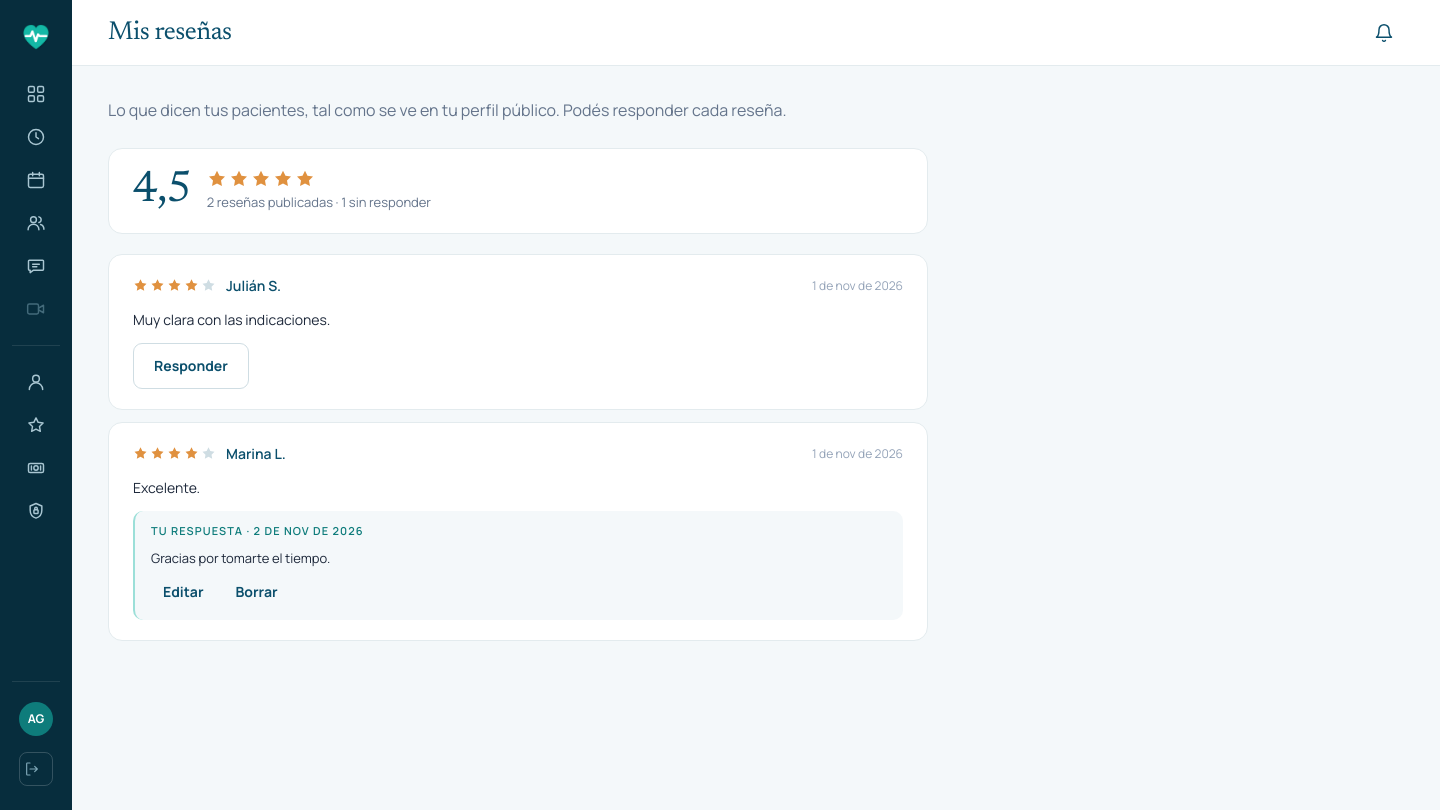
Test: Mis reseñas (ENG-106) › si el filtro de lenguaje la rechaza, muestra el motivo y no pierde lo escrito (ENG-107)
Click the button "Responder" at (191, 366), box [133, 343, 249, 389]
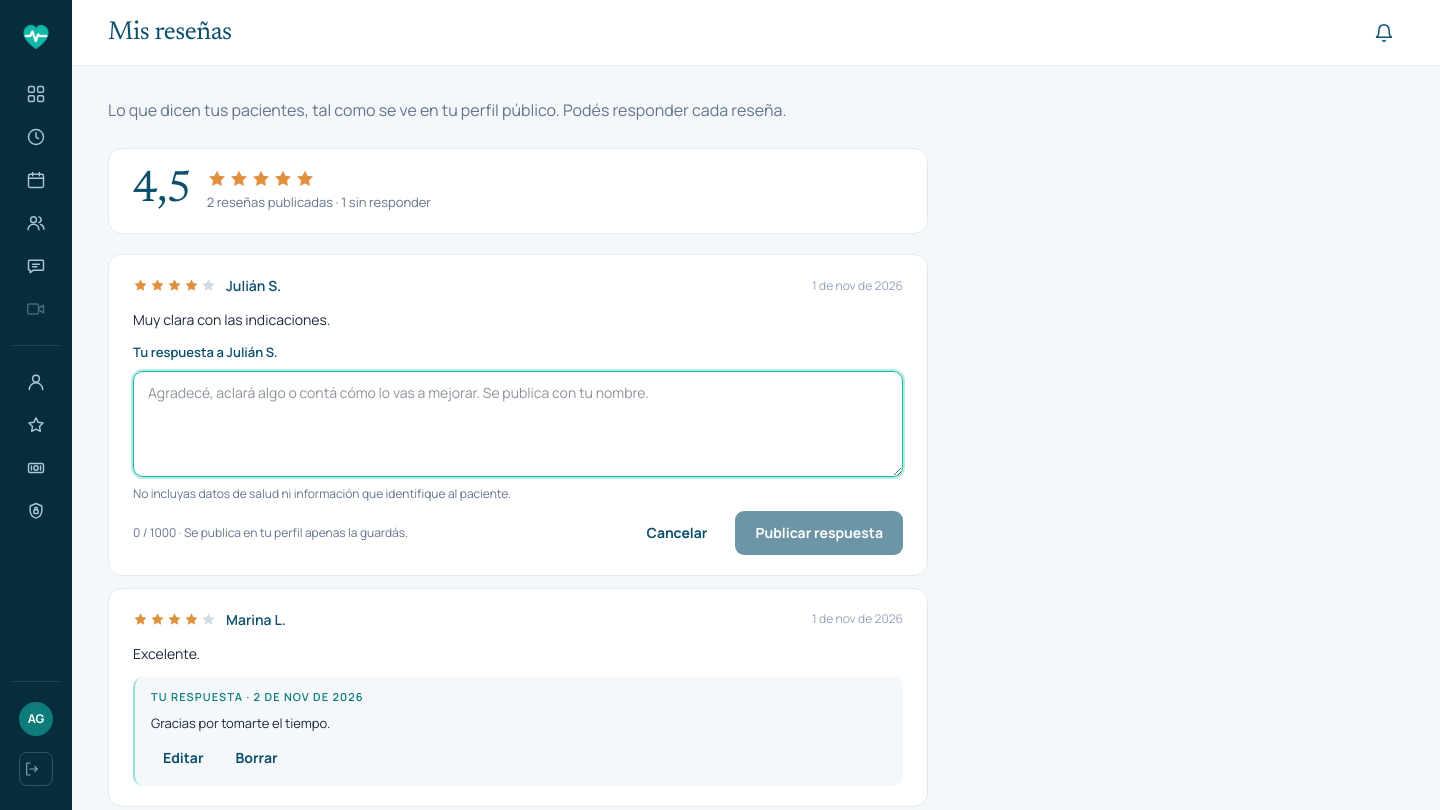
Type "Una respuesta" into the text box labelled "Tu respuesta a Julián S." at (518, 424), box [133, 371, 903, 477]
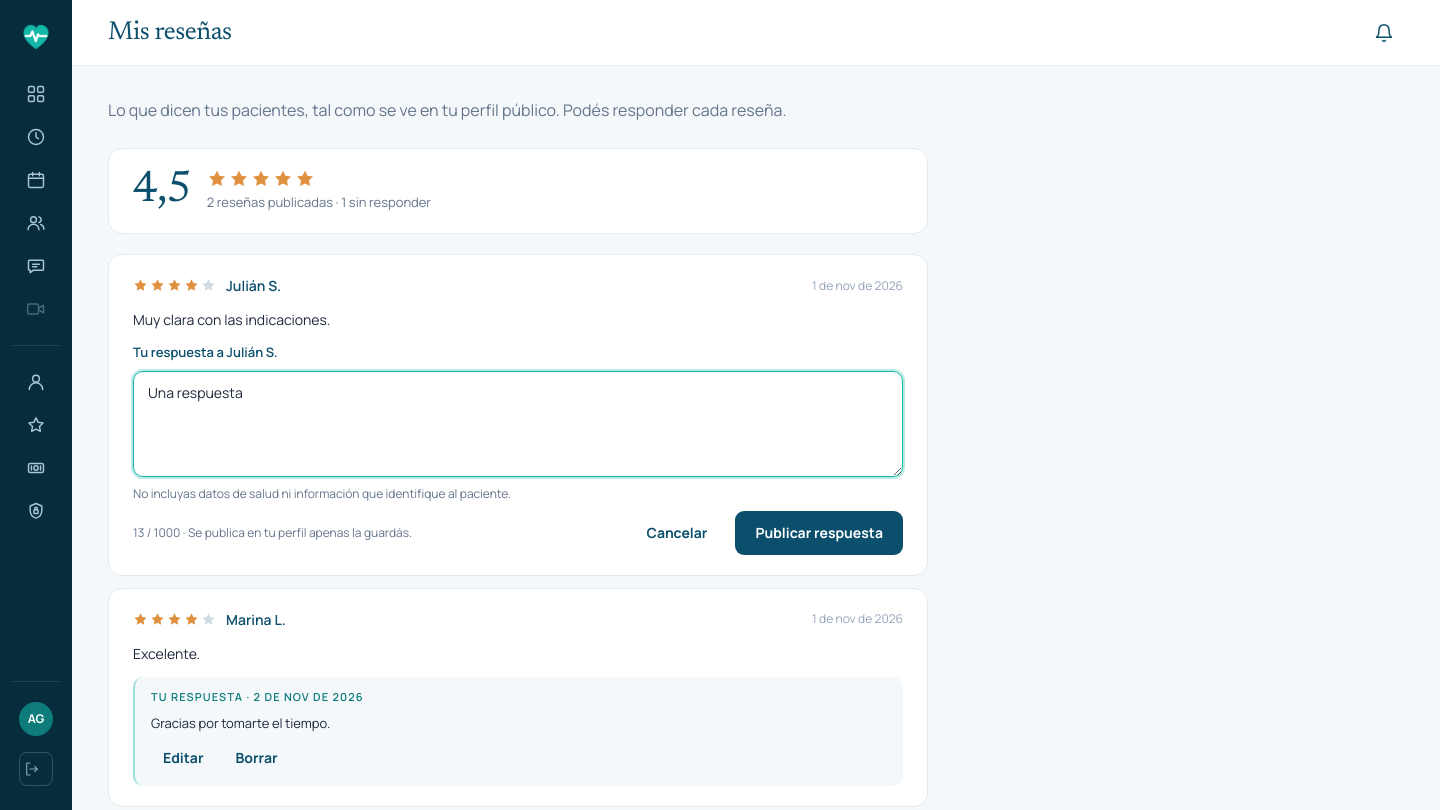
Click the button "Publicar respuesta" at (819, 533), box [736, 511, 903, 555]
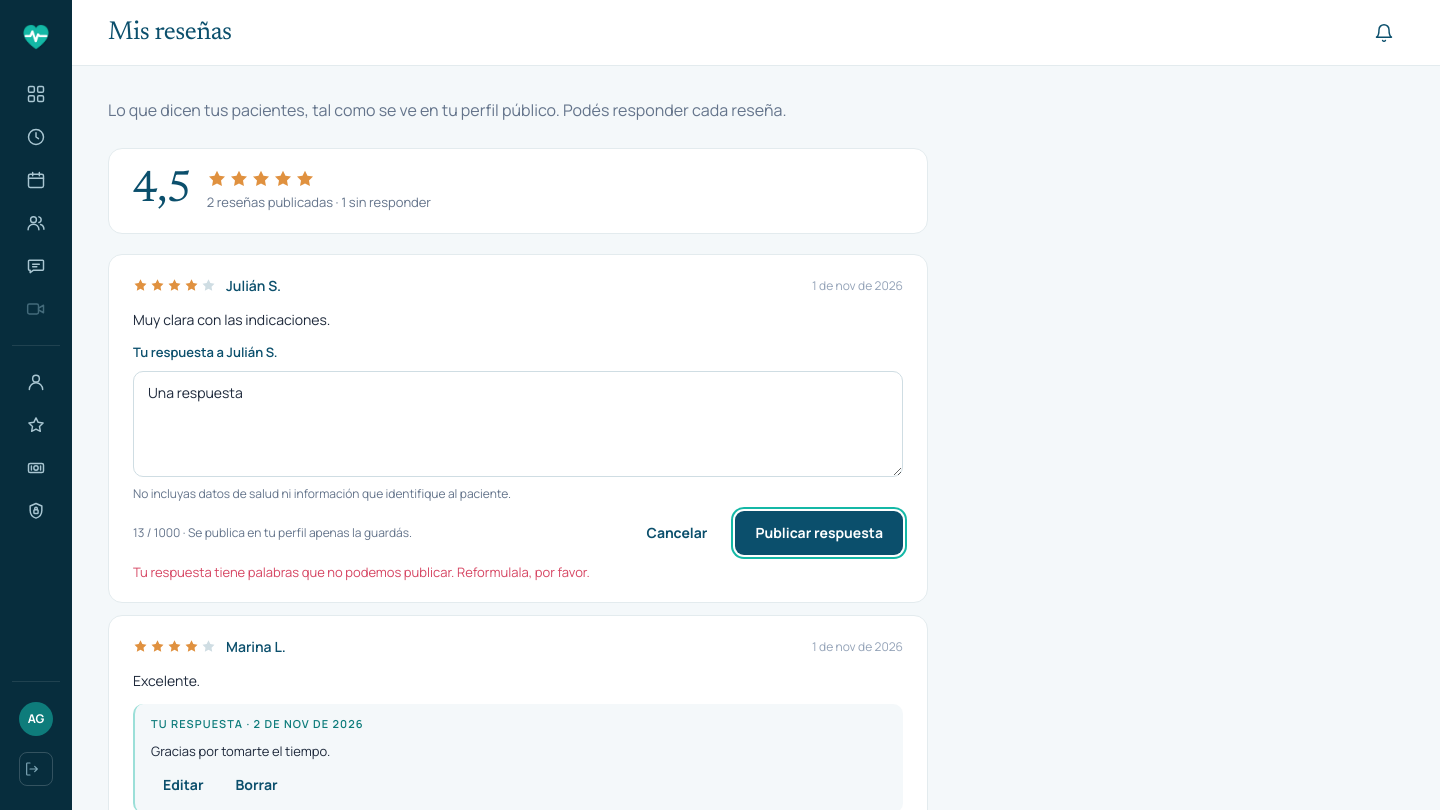
Result: the message shows "Reformulala" at [133, 563, 590, 581]
